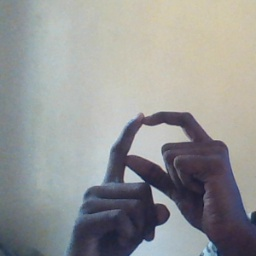D: (92, 106, 225, 235)
